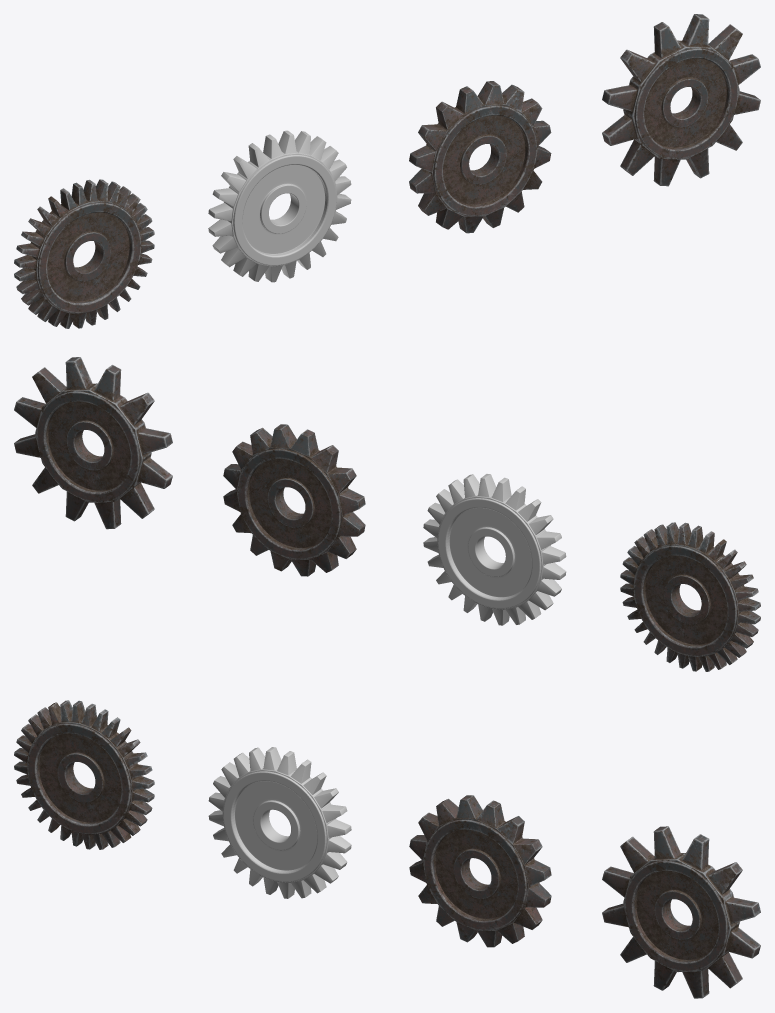
File: Gear_Set_07.fbx
3 views of the same model, one above another, from view 1: azimuth 30°, elevation 25°; view 2: azimuth 150°, elevation 25°; view 3: azimuth 330°, elevation 25° (orthographic).
Visible parts, largest first — view 1: Solid_Gear_04_12_Teeth, Solid_Gear_02_24_Teeth, Solid_Gear_03_16_Teeth, Solid_Gear_01_32_Teeth; view 2: Solid_Gear_04_12_Teeth, Solid_Gear_02_24_Teeth, Solid_Gear_03_16_Teeth, Solid_Gear_01_32_Teeth; view 3: Solid_Gear_04_12_Teeth, Solid_Gear_02_24_Teeth, Solid_Gear_03_16_Teeth, Solid_Gear_01_32_Teeth.
Part boxes in pixels (x1,y1,x2,y2): Solid_Gear_04_12_Teeth: [602, 14, 760, 186]; Solid_Gear_02_24_Teeth: [208, 130, 351, 282]; Solid_Gear_03_16_Teeth: [409, 81, 551, 233]; Solid_Gear_01_32_Teeth: [14, 179, 154, 328]; Solid_Gear_04_12_Teeth: [14, 357, 172, 529]; Solid_Gear_02_24_Teeth: [423, 474, 566, 625]; Solid_Gear_03_16_Teeth: [223, 424, 365, 576]; Solid_Gear_01_32_Teeth: [620, 522, 760, 671]; Solid_Gear_04_12_Teeth: [602, 826, 760, 998]; Solid_Gear_02_24_Teeth: [208, 747, 351, 898]; Solid_Gear_03_16_Teeth: [409, 795, 551, 947]; Solid_Gear_01_32_Teeth: [14, 700, 154, 849].
Bounding box in the file's own units: 2423 × 500 × 67.23.
